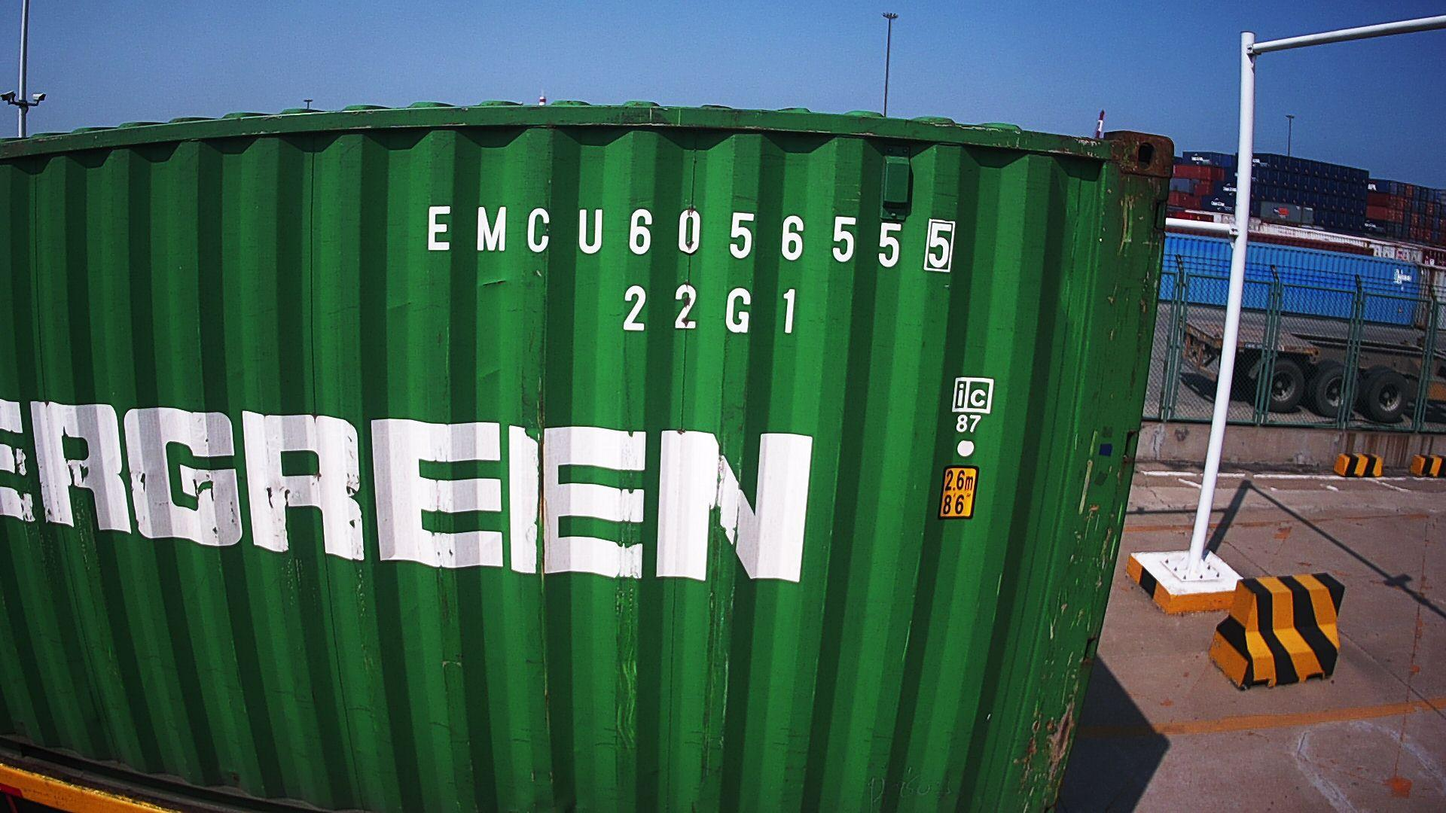container-numbers: (419, 200, 961, 277), (620, 277, 809, 338)
